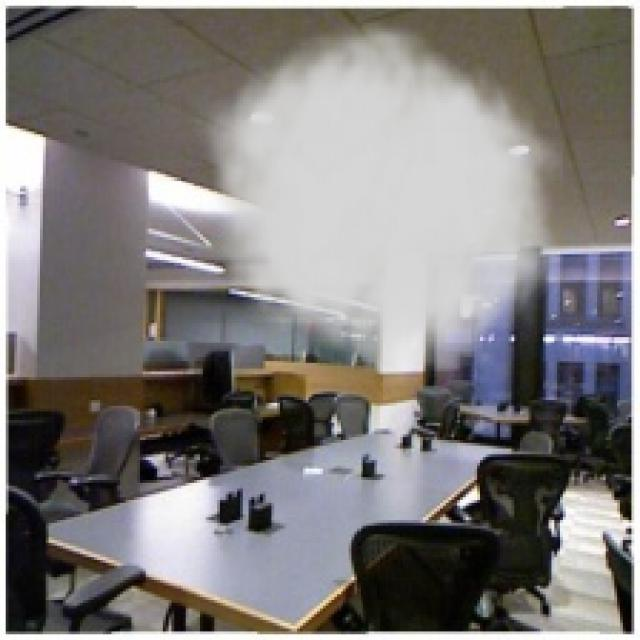smoke: (191, 9, 563, 392)
